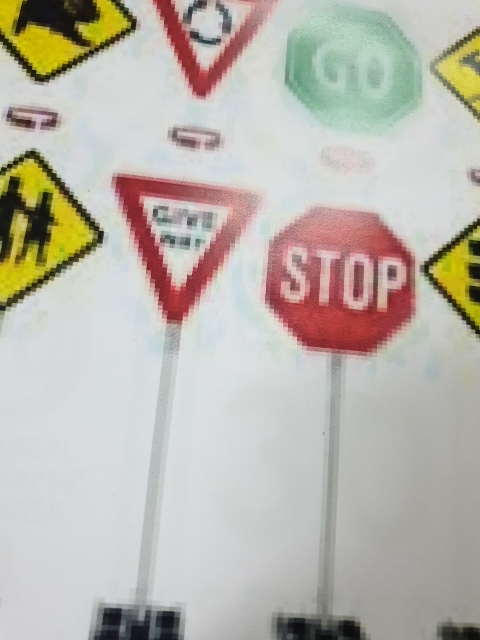giveway: (117, 174, 260, 314)
stop: (270, 205, 421, 351)
